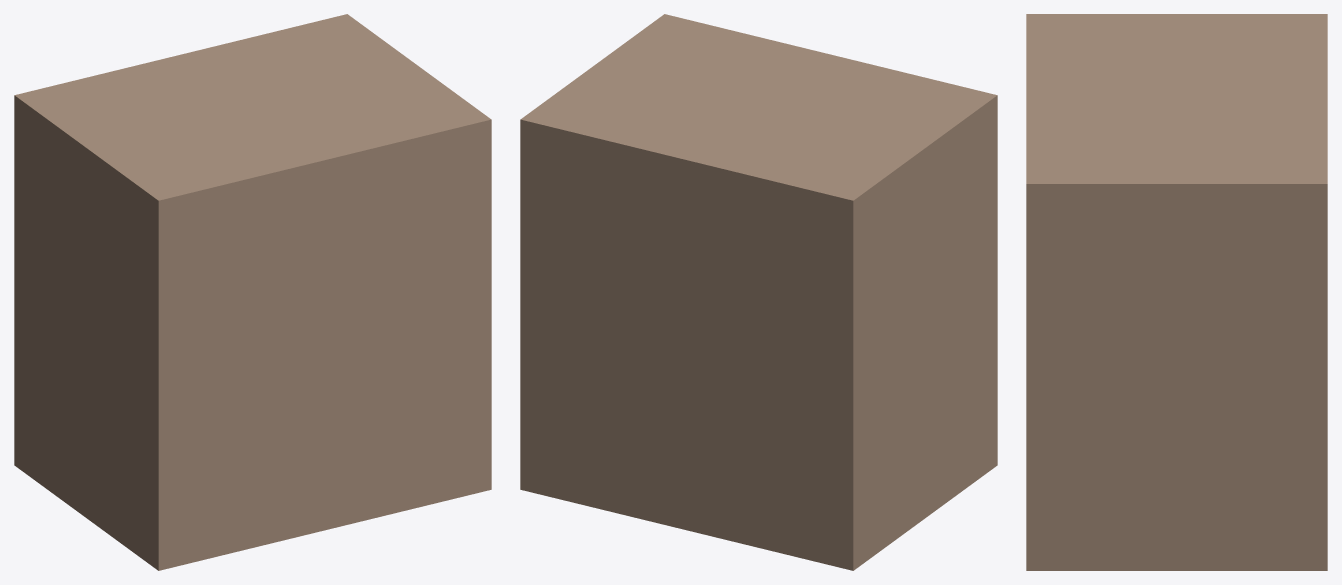
Rendered from base_cabinet.glb.
The picture shows the model from 3 angles, left to right: view 1: azimuth 30°, elevation 25°; view 2: azimuth 150°, elevation 25°; view 3: azimuth 270°, elevation 25°; orthographic projection. The views are drawn at different scales.
Parts seen in each view (by area): view 1: base_cabinet; view 2: base_cabinet; view 3: base_cabinet.
Boxes of the visible parts, <box> form: base_cabinet: <box>14,14,491,570</box>; base_cabinet: <box>520,14,997,570</box>; base_cabinet: <box>1026,14,1327,570</box>.
Bounding box in the file's own units: 0.8 × 0.85 × 0.6.
